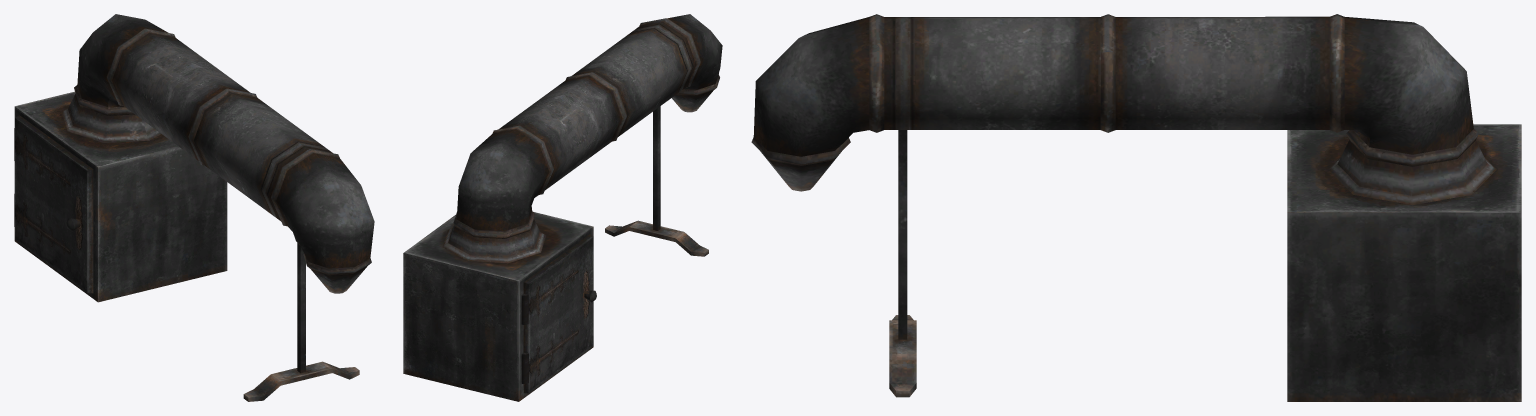
File: extaction_oven.dae
3 renders of one model, left to right at view 1: azimuth 30°, elevation 25°; view 2: azimuth 150°, elevation 25°; view 3: azimuth 270°, elevation 25°, orthographic. The views are drawn at different scales.
Visible parts, largest first — view 1: base, door; view 2: base, door; view 3: base.
Part boxes in pixels (x1=…): base: x1=14, y1=14, x2=374, y2=401; door: x1=14, y1=115, x2=93, y2=293; base: x1=403, y1=14, x2=722, y2=401; door: x1=521, y1=234, x2=596, y2=393; base: x1=751, y1=14, x2=1521, y2=401.
Size of the model in its own units: 0.3078 by 1 by 0.4929.
